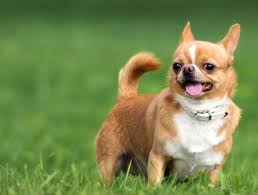Chihuahua: (73, 12, 250, 191)
